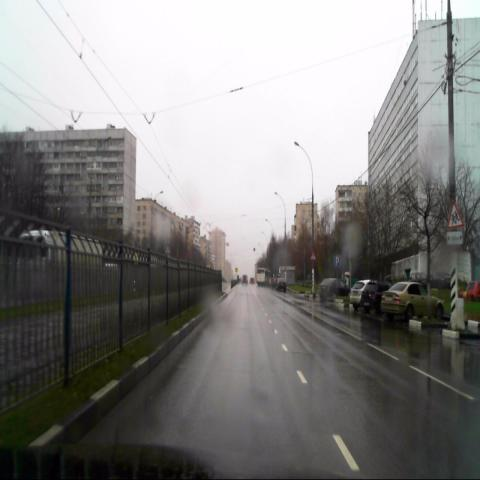1_23: (447, 200, 463, 229)
